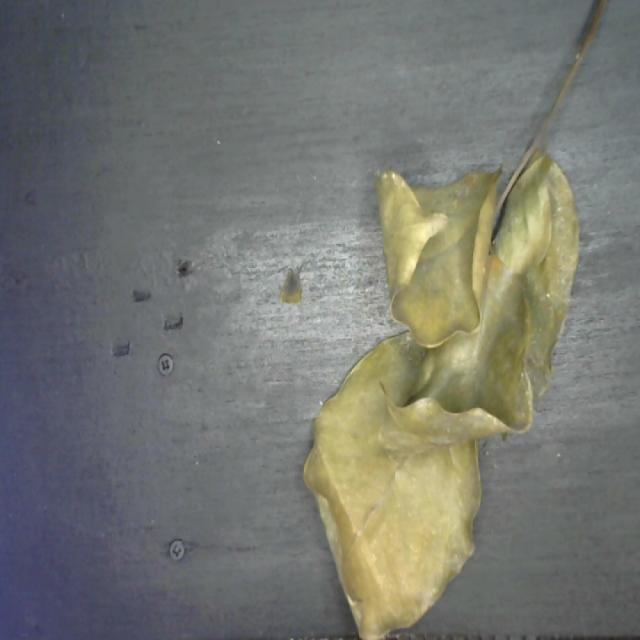biodegradable: (292, 150, 590, 640)
